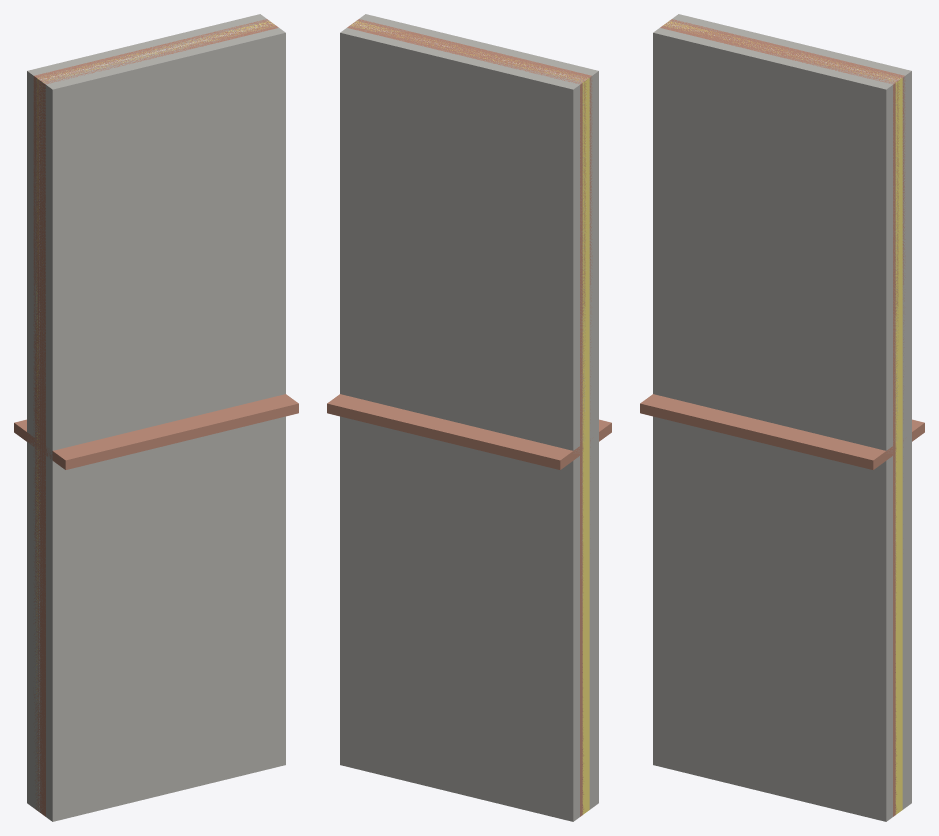
File: wall-exterior-brick-on-cmu.glb
The picture shows the model from 3 angles, left to right: view 1: azimuth 30°, elevation 25°; view 2: azimuth 150°, elevation 25°; view 3: azimuth 330°, elevation 25°; orthographic projection.
Parts seen in each view (by area): view 1: Structure_CMU, Finish1_Brick, Coping, Thermal_Insul, Finish2_Gypsum; view 2: Structure_CMU, Thermal_Insul, Finish1_Brick, Coping; view 3: Structure_CMU, Thermal_Insul, Finish1_Brick, Coping.
Part boxes in pixels (x1,y1,x2,y2): Structure_CMU: (27,14,285,821); Finish1_Brick: (33,19,278,816); Coping: (14,394,298,469); Thermal_Insul: (36,21,274,798); Finish2_Gypsum: (39,23,272,811); Structure_CMU: (340,14,598,821); Thermal_Insul: (350,21,589,814); Finish1_Brick: (347,19,592,816); Coping: (327,394,611,469); Structure_CMU: (653,14,911,821); Thermal_Insul: (663,21,902,814); Finish1_Brick: (660,19,905,816); Coping: (640,394,924,469).
Bounding box in the file's own units: 1 × 3 × 0.383.
